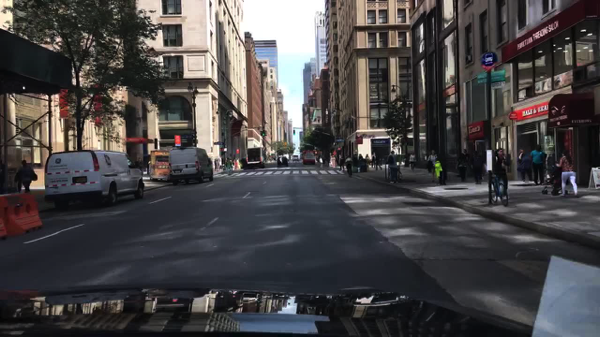bike: (488, 169, 510, 208), (387, 161, 403, 184), (345, 163, 353, 177), (318, 162, 324, 169)
car: (43, 149, 146, 213), (168, 146, 214, 185), (276, 155, 290, 168), (281, 153, 291, 162), (291, 154, 299, 162)
person: (555, 148, 579, 199), (529, 144, 546, 186), (514, 148, 533, 183), (17, 158, 34, 193), (434, 151, 448, 187), (385, 150, 399, 185), (470, 150, 484, 184), (425, 148, 438, 183), (454, 152, 468, 183), (461, 147, 470, 176), (408, 150, 418, 175), (136, 156, 146, 178), (374, 150, 383, 173), (224, 156, 233, 176), (338, 153, 345, 173), (364, 154, 371, 172), (370, 151, 376, 169), (235, 156, 241, 171), (350, 152, 359, 162), (215, 158, 221, 172), (213, 158, 218, 170), (232, 157, 237, 168), (357, 154, 364, 161)
rider: (492, 147, 509, 199), (344, 154, 354, 176), (317, 156, 324, 169)
traffic light: (262, 129, 265, 137), (264, 131, 268, 137), (258, 130, 262, 136), (292, 129, 295, 135), (284, 142, 287, 147)
traffic sign: (475, 67, 506, 85), (477, 50, 499, 72), (490, 81, 505, 90)
truck: (148, 149, 175, 183), (245, 146, 266, 170), (301, 149, 316, 167)
